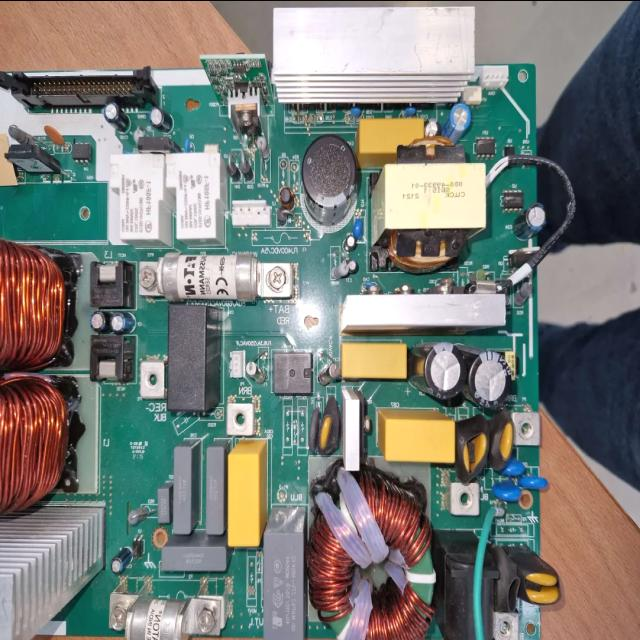A: (310, 458, 436, 640), (0, 231, 77, 373), (0, 375, 77, 515)
B: (138, 252, 300, 300), (110, 579, 232, 640)
C: (302, 134, 356, 226), (465, 346, 517, 412), (410, 340, 464, 400)
